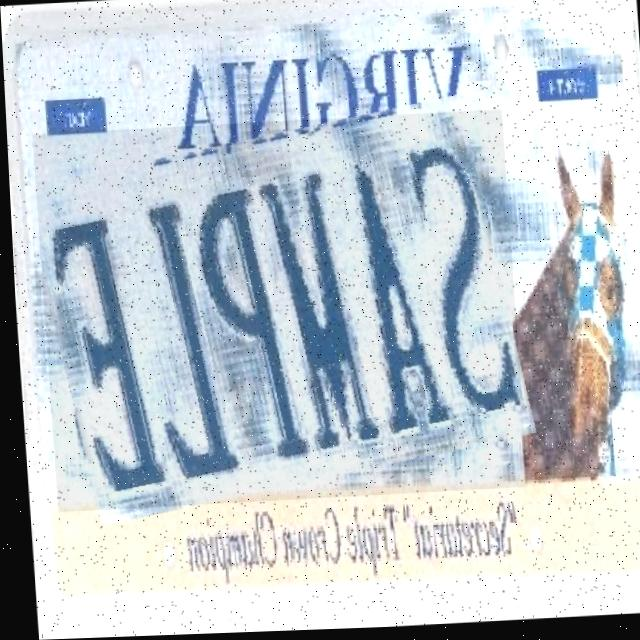LicensePlate: (30, 112, 522, 512)
